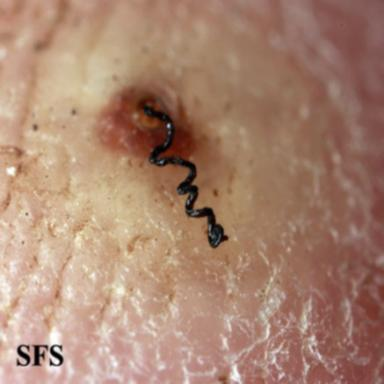Tungiasis: (30, 13, 304, 262)
